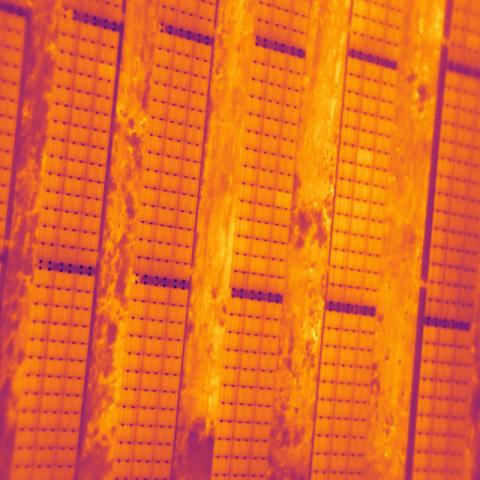fault: (356, 147, 374, 169), (274, 191, 292, 210)
